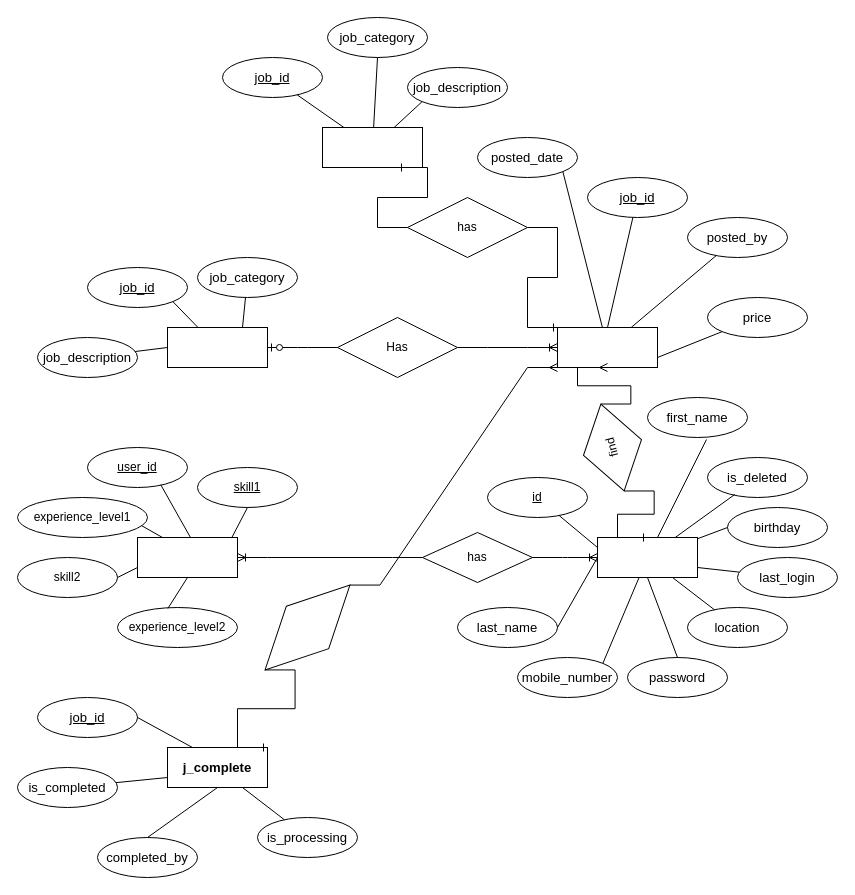
This 855x895 diagram has some shape labels left out. Here are the shapes that lost their labels. From the top down, the centre of each, then its label:
At (x=372, y=147): "j_location".
At (x=217, y=347): "j_category".
At (x=607, y=347): "jobs".
At (x=187, y=557): "skills".
At (x=647, y=557): "User".
At (x=307, y=627): "manage".
